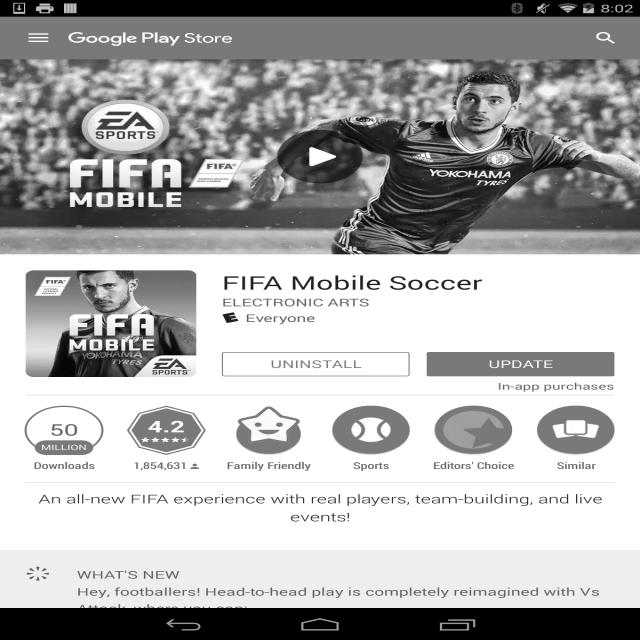Button: (222, 406, 316, 472), (324, 406, 418, 472), (426, 406, 520, 472), (529, 406, 623, 472), (120, 406, 213, 472), (222, 352, 409, 376), (427, 352, 614, 376)
ImageButton: (9, 17, 68, 59)
ImageView: (0, 59, 640, 254), (26, 270, 196, 377), (264, 121, 376, 192), (536, 406, 616, 455), (332, 406, 411, 455), (434, 406, 513, 455), (236, 414, 302, 455), (68, 30, 233, 46), (238, 406, 300, 444), (26, 566, 51, 582), (222, 312, 239, 323), (190, 464, 199, 469)
TextView: (0, 490, 640, 537), (77, 584, 614, 640), (222, 270, 614, 295), (77, 566, 614, 584), (222, 295, 370, 309), (580, 22, 632, 54), (17, 455, 111, 472), (222, 455, 316, 472), (324, 455, 418, 472), (426, 455, 520, 472), (529, 455, 623, 472), (498, 380, 614, 392), (245, 311, 316, 325), (134, 455, 188, 472), (148, 415, 185, 437), (50, 420, 78, 440), (39, 443, 89, 452)
